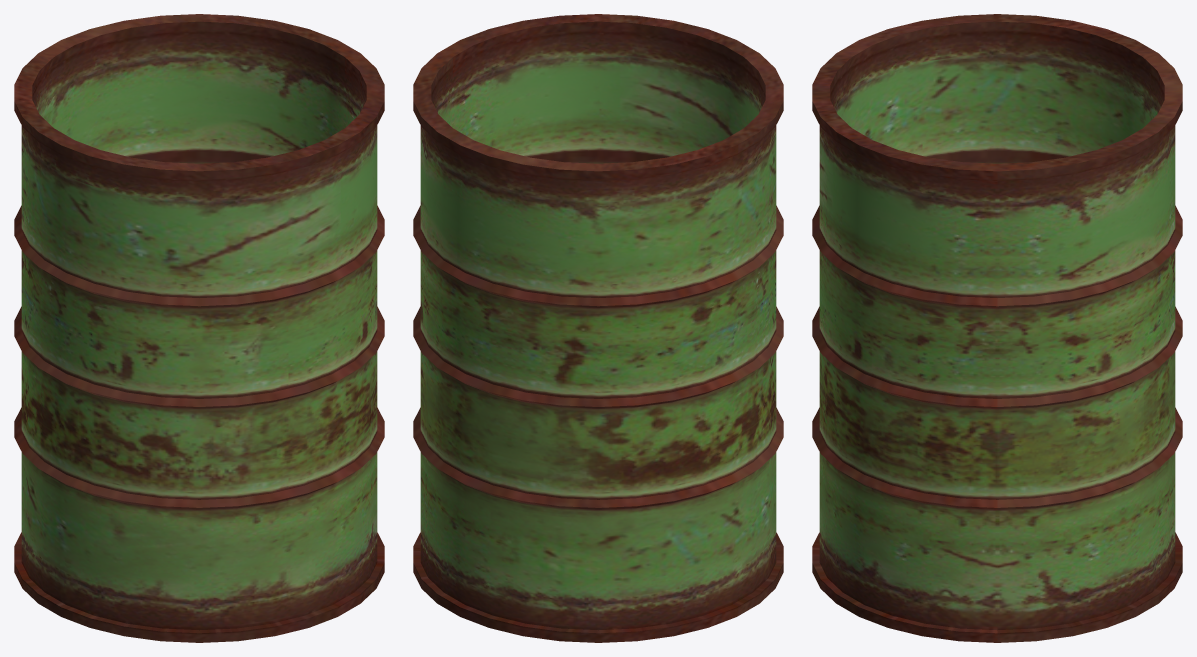
The model's file is Barrel.FBX.
3 renders of one model, left to right at view 1: azimuth 30°, elevation 25°; view 2: azimuth 150°, elevation 25°; view 3: azimuth 270°, elevation 25°, orthographic.
Parts seen in each view (by area): view 1: Barrel; view 2: Barrel; view 3: Barrel.
Boxes of the visible parts, x1=… form: Barrel: x1=14, y1=14, x2=384, y2=642; Barrel: x1=413, y1=14, x2=783, y2=642; Barrel: x1=812, y1=14, x2=1182, y2=642.
Size of the model in its own units: 40.98 by 57.27 by 40.75.
Materials: 1 (1 with a texture image).
